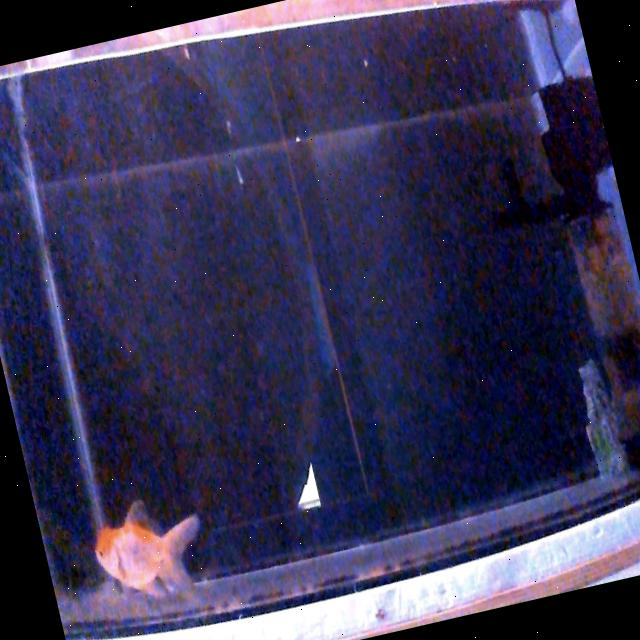fish: (84, 486, 214, 610)
